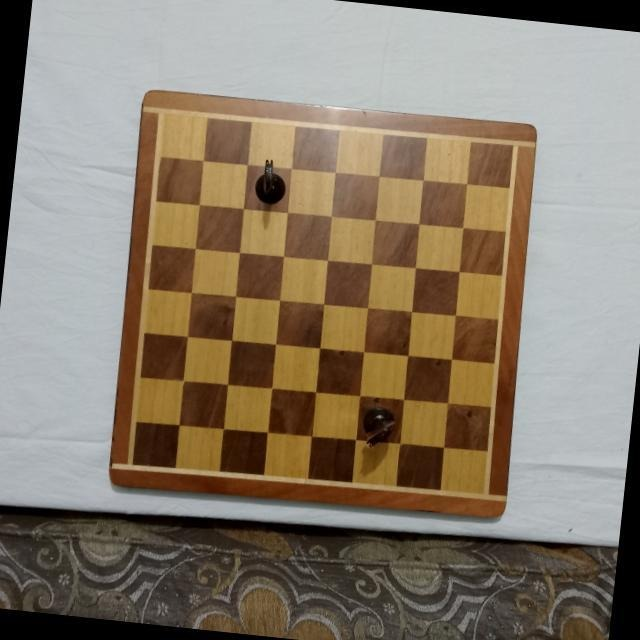black-knight: (358, 401, 398, 450), (251, 158, 288, 208)
